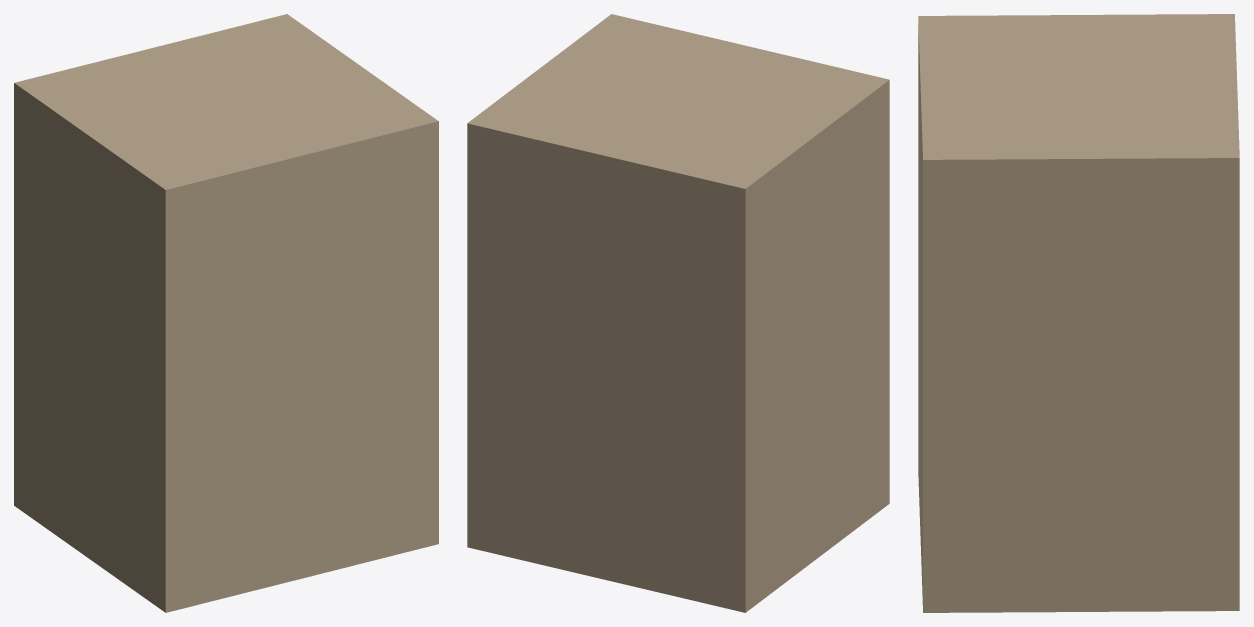
Rendered from bld_106339090.dae.
3 views of the same model, side by side, from view 1: azimuth 30°, elevation 25°; view 2: azimuth 150°, elevation 25°; view 3: azimuth 270°, elevation 25° (orthographic). The views are drawn at different scales.
Parts seen in each view (by area): view 1: bld_106339090; view 2: bld_106339090; view 3: bld_106339090.
Part boxes in pixels (x1=…): bld_106339090: x1=14, y1=14, x2=438, y2=612; bld_106339090: x1=467, y1=14, x2=889, y2=612; bld_106339090: x1=918, y1=14, x2=1239, y2=612.
Bounding box in the file's own units: 5.53 × 5.15 × 8.
